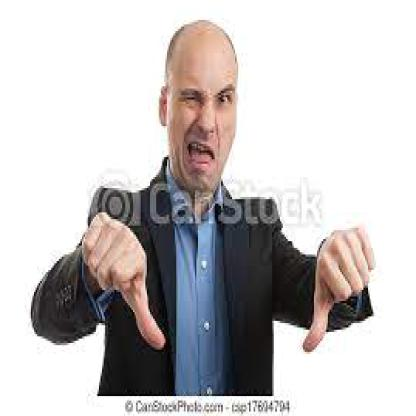Thumbs Down: (81, 207, 167, 356), (304, 221, 377, 353)
